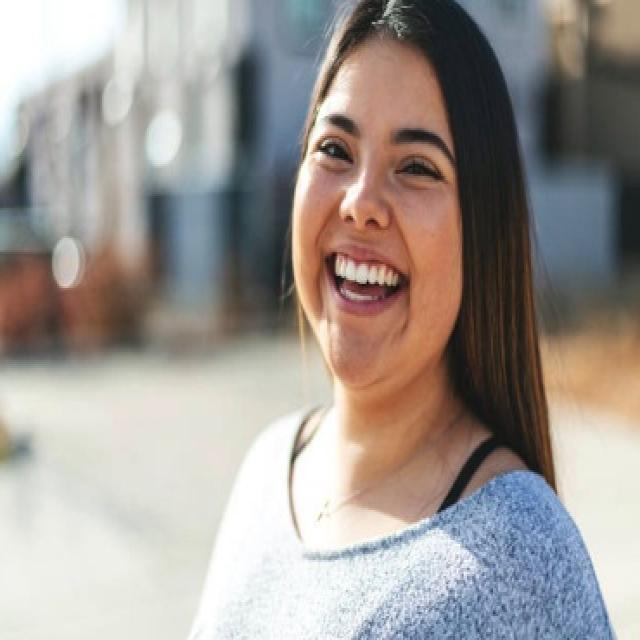adult: (172, 0, 572, 640)
